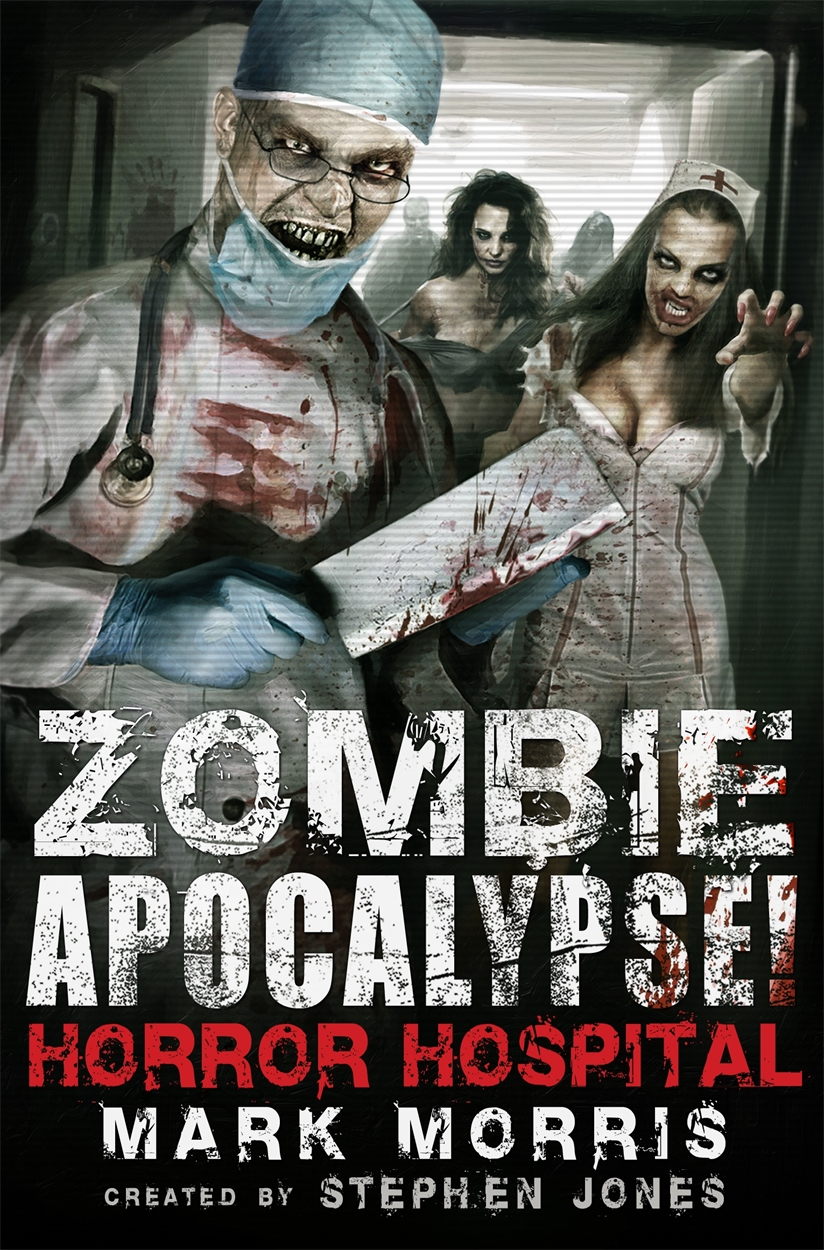-: (150, 705, 294, 868), (628, 197, 755, 338)
